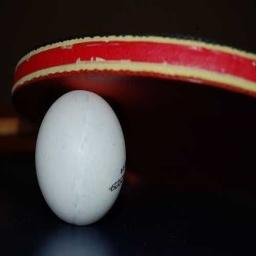white: (34, 89, 127, 227)
